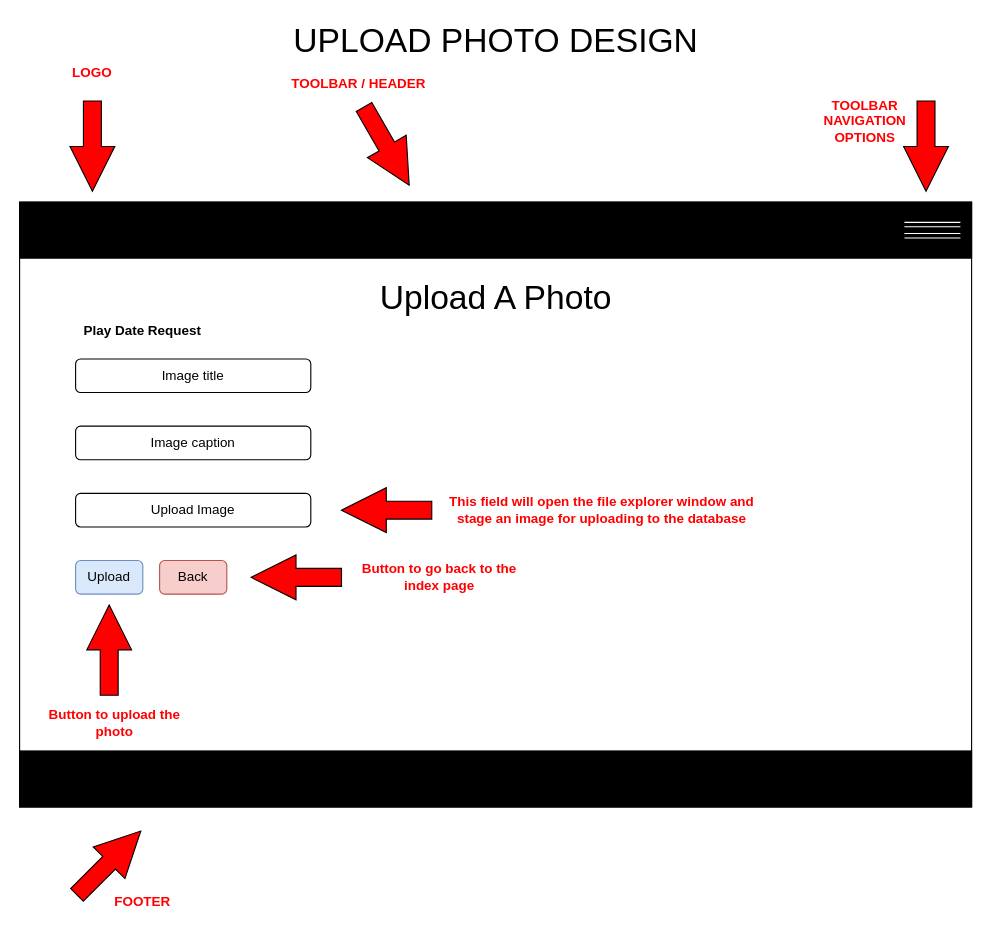
Some shapes in this 991 by 937 pixel diagram are drawn without their labels. Each missing label, with the box of its shape:
PETS R US: (18, 201, 972, 258)
PETS R US 2023: (18, 750, 972, 807)
